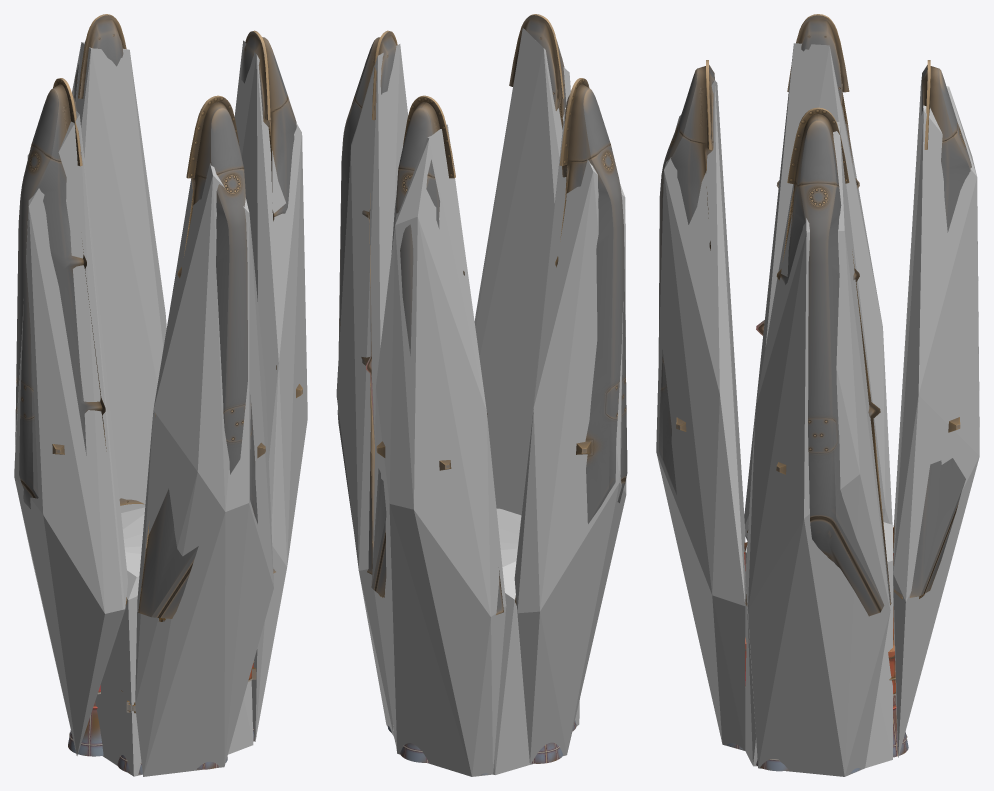
Rendered from SM_RocketEngine.fbx.
3 renders of one model, left to right at view 1: azimuth 30°, elevation 25°; view 2: azimuth 150°, elevation 25°; view 3: azimuth 270°, elevation 25°, orthographic.
Visible parts, largest first — view 1: SM_RocketEngine_ConvexHulls, SM_RocketEngine; view 2: SM_RocketEngine_ConvexHulls, SM_RocketEngine; view 3: SM_RocketEngine_ConvexHulls, SM_RocketEngine.
Boxes of the visible parts, bbox=[...] form: SM_RocketEngine_ConvexHulls: bbox=[14, 40, 307, 776]; SM_RocketEngine: bbox=[15, 14, 302, 774]; SM_RocketEngine_ConvexHulls: bbox=[336, 28, 626, 776]; SM_RocketEngine: bbox=[337, 14, 627, 774]; SM_RocketEngine_ConvexHulls: bbox=[656, 43, 979, 776]; SM_RocketEngine: bbox=[658, 14, 971, 773].
Bounding box in the file's own units: 1458 × 1459 × 3359.
Materials: 2 (1 with a texture image).
